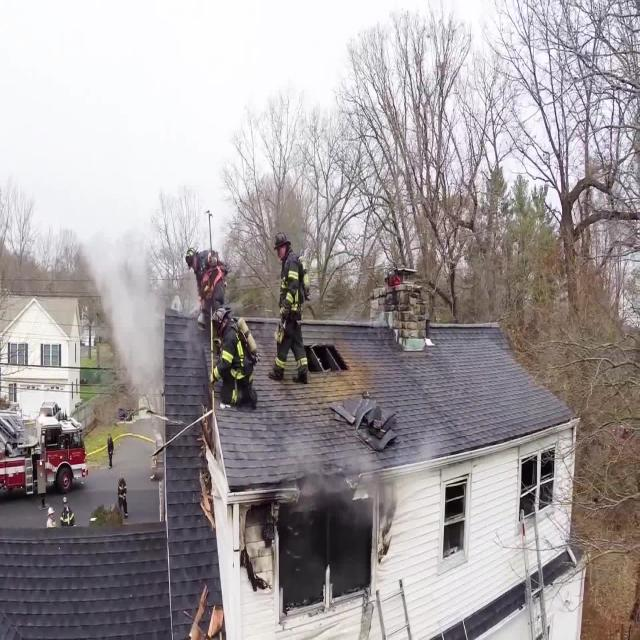smoke: (92, 249, 163, 398)
